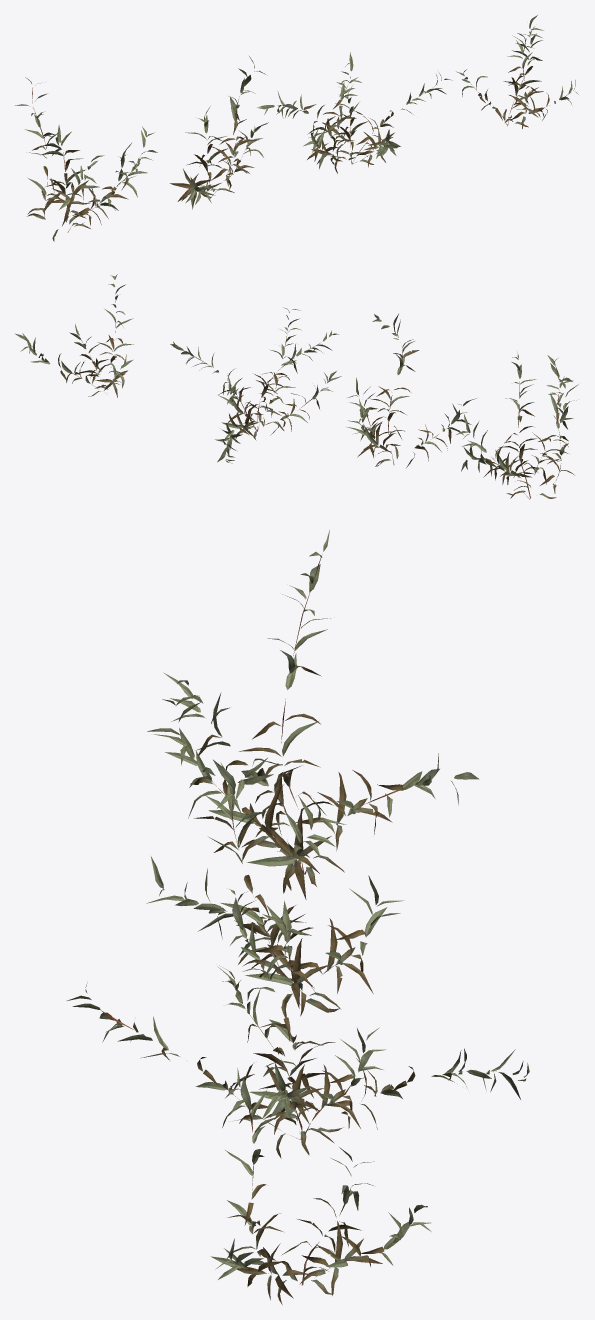
File: shrub_02_lod1.glb
3 views of the same model, one above another, from view 1: azimuth 30°, elevation 25°; view 2: azimuth 150°, elevation 25°; view 3: azimuth 270°, elevation 25° (orthographic). The views are drawn at different scales.
Parts seen in each view (by area): view 1: shrub_02_a, shrub_02_c, shrub_02_b, shrub_02_d; view 2: shrub_02_a, shrub_02_c, shrub_02_b, shrub_02_d; view 3: shrub_02_a, shrub_02_c, shrub_02_b, shrub_02_d.
Boxes of the visible parts, box(x1,y1,x2,y2) form: shrub_02_a: box(15, 77, 157, 241); shrub_02_c: box(257, 52, 451, 173); shrub_02_b: box(170, 56, 268, 209); shrub_02_d: box(456, 15, 578, 128); shrub_02_a: box(456, 352, 578, 499); shrub_02_c: box(170, 307, 341, 463); shrub_02_b: box(347, 314, 476, 467); shrub_02_d: box(15, 274, 133, 397); shrub_02_a: box(147, 530, 479, 899); shrub_02_c: box(67, 889, 529, 1158); shrub_02_b: box(146, 758, 404, 1017); shrub_02_d: box(210, 1068, 431, 1304).
Bounding box in the file's own units: 6.05 × 1.7 × 2.28.
1 material, 1 textured.
